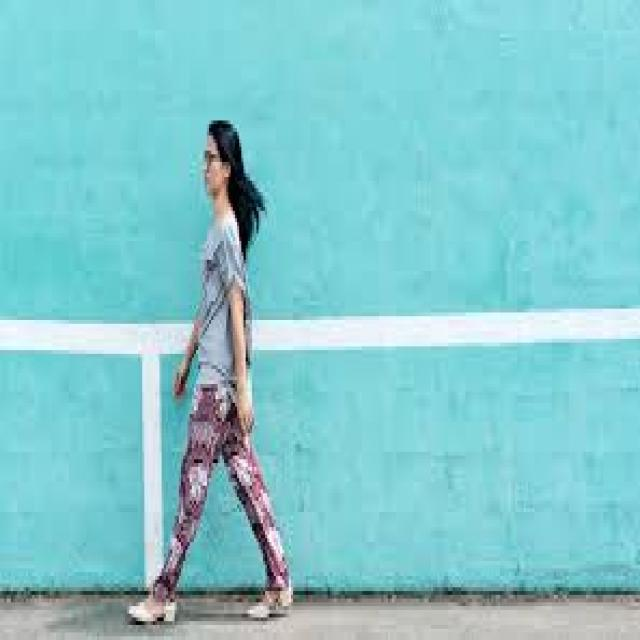nonfall: (134, 123, 296, 620)
